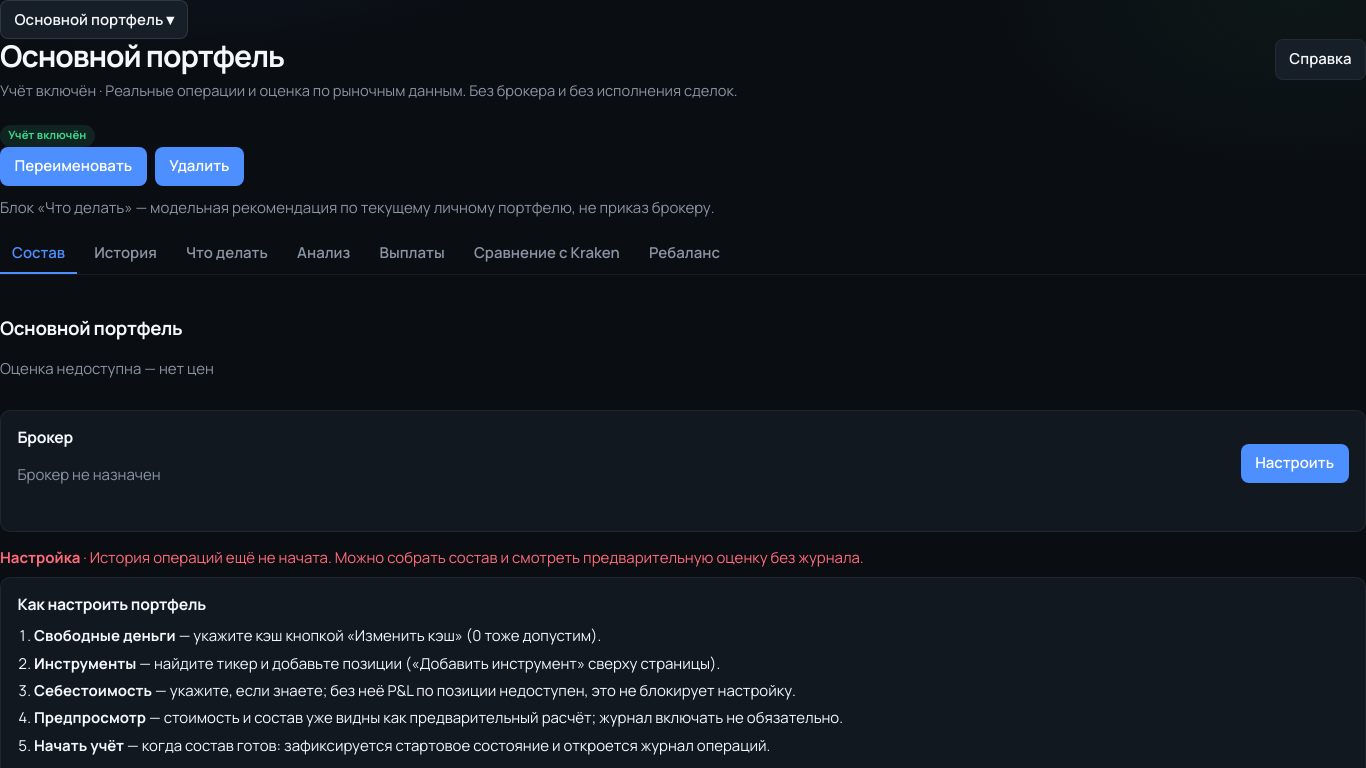
Test: MyPortfolioPage › loads rebalance tab with disclaimer
Step 1. Click the button with test id "tab-rebalance" → x=684, y=254, box [637,234,732,274]
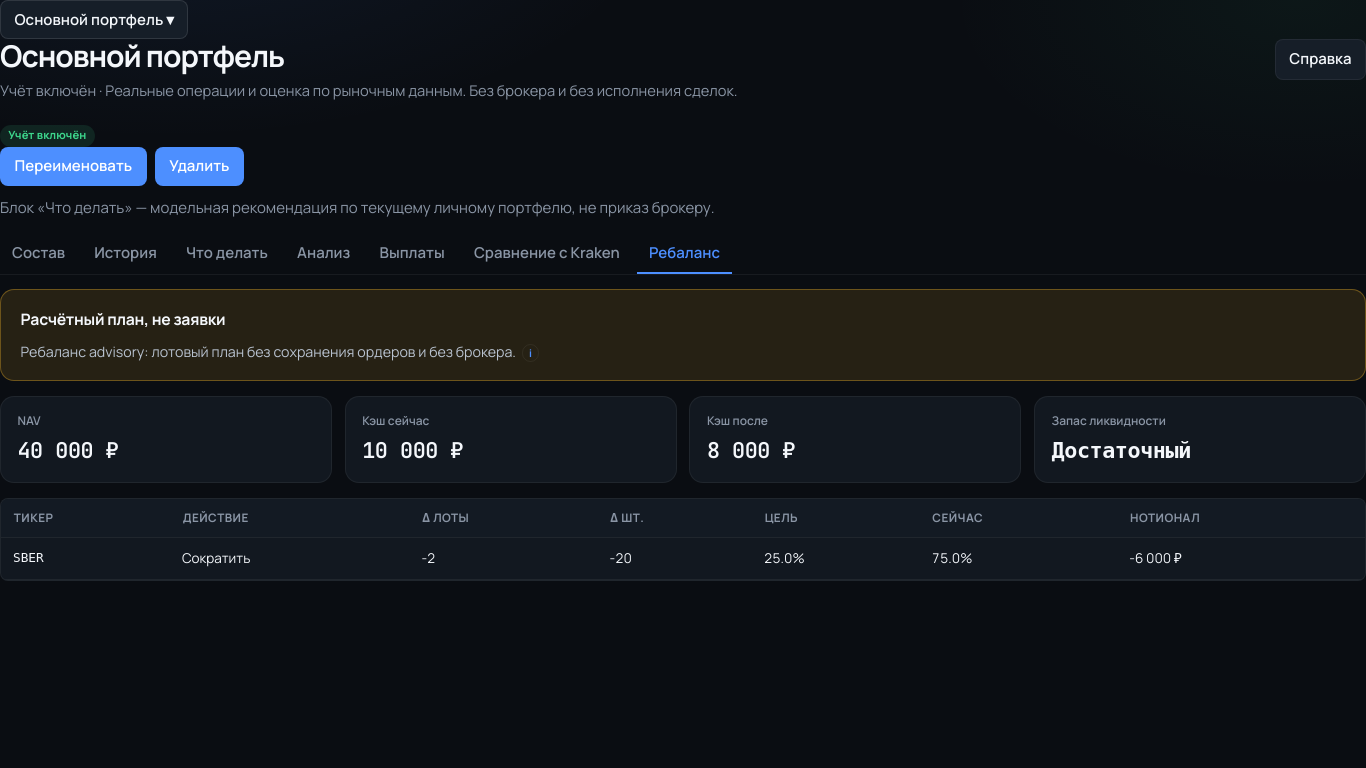
Now the heading "Расчётный план, не заявки" is shown, box [20,308,225,330]
Now the text "Сократить" is shown, box [170,538,409,580]
